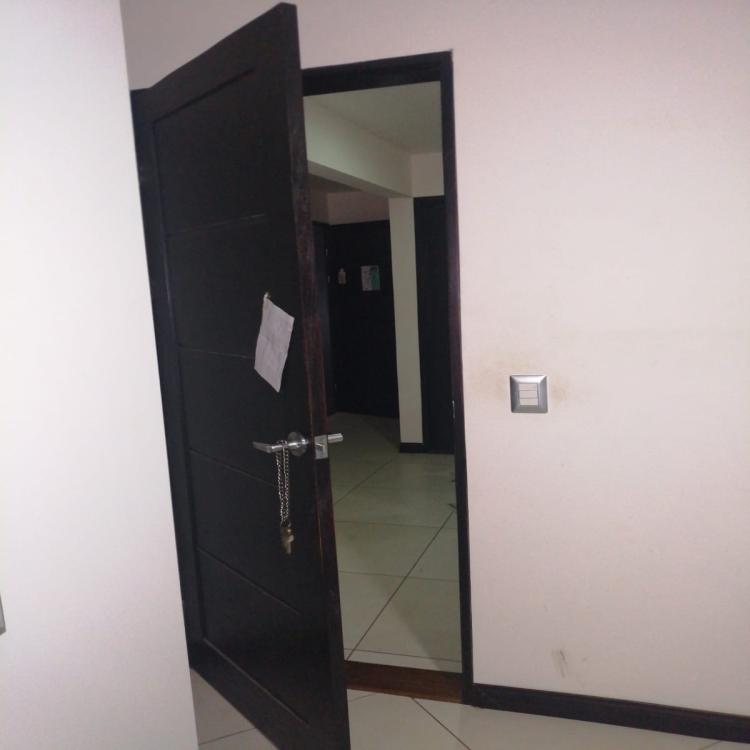OpenDoor: (130, 7, 505, 750)
